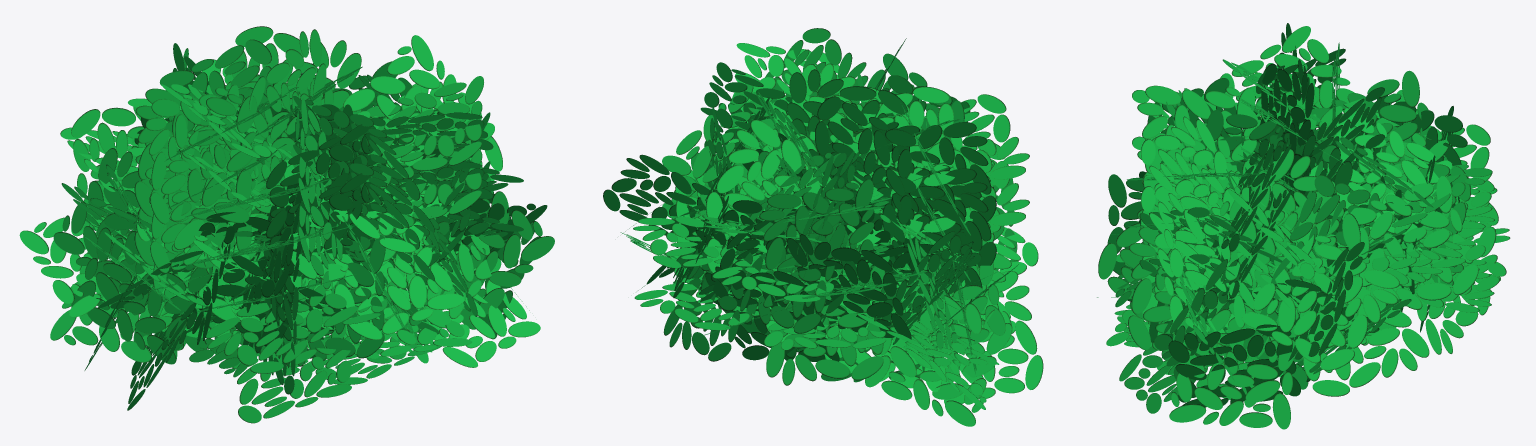
Rendered from bush.fbx.
3 renders of one model, left to right at view 1: azimuth 30°, elevation 25°; view 2: azimuth 150°, elevation 25°; view 3: azimuth 270°, elevation 25°, orthographic. The views are drawn at different scales.
Visible parts, largest first — view 1: Bush; view 2: Bush; view 3: Bush.
Boxes of the visible parts, bbox=[...] form: Bush: bbox=[19, 26, 554, 423]; Bush: bbox=[603, 28, 1043, 426]; Bush: bbox=[1097, 23, 1510, 429].
Size of the model in its own units: 19.62 by 13.57 by 17.43.
